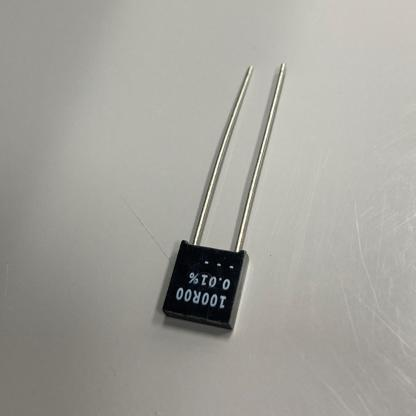SP0000007: (138, 27, 326, 341)
